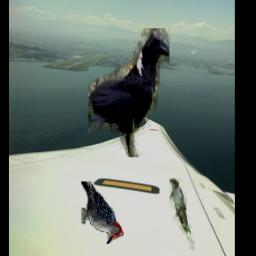Crow: (88, 28, 169, 157)
Cuckoo: (170, 178, 196, 253)
Woodpecker: (81, 181, 124, 244)
